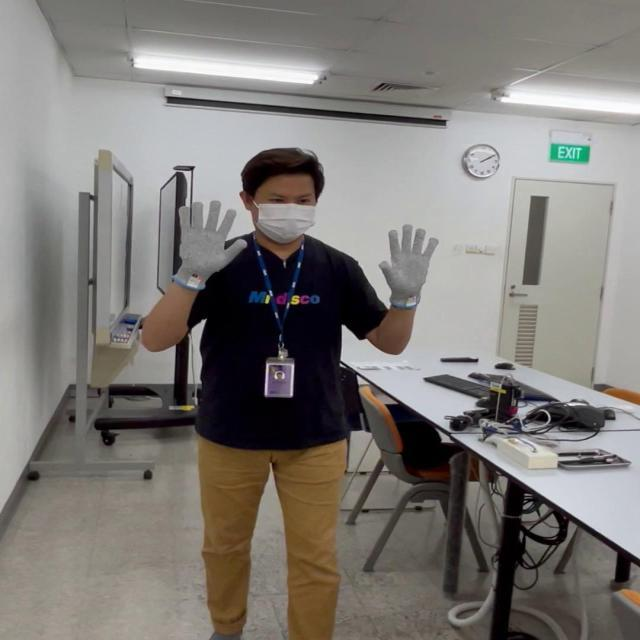gloved_hand: (170, 202, 251, 284), (377, 222, 437, 306)
